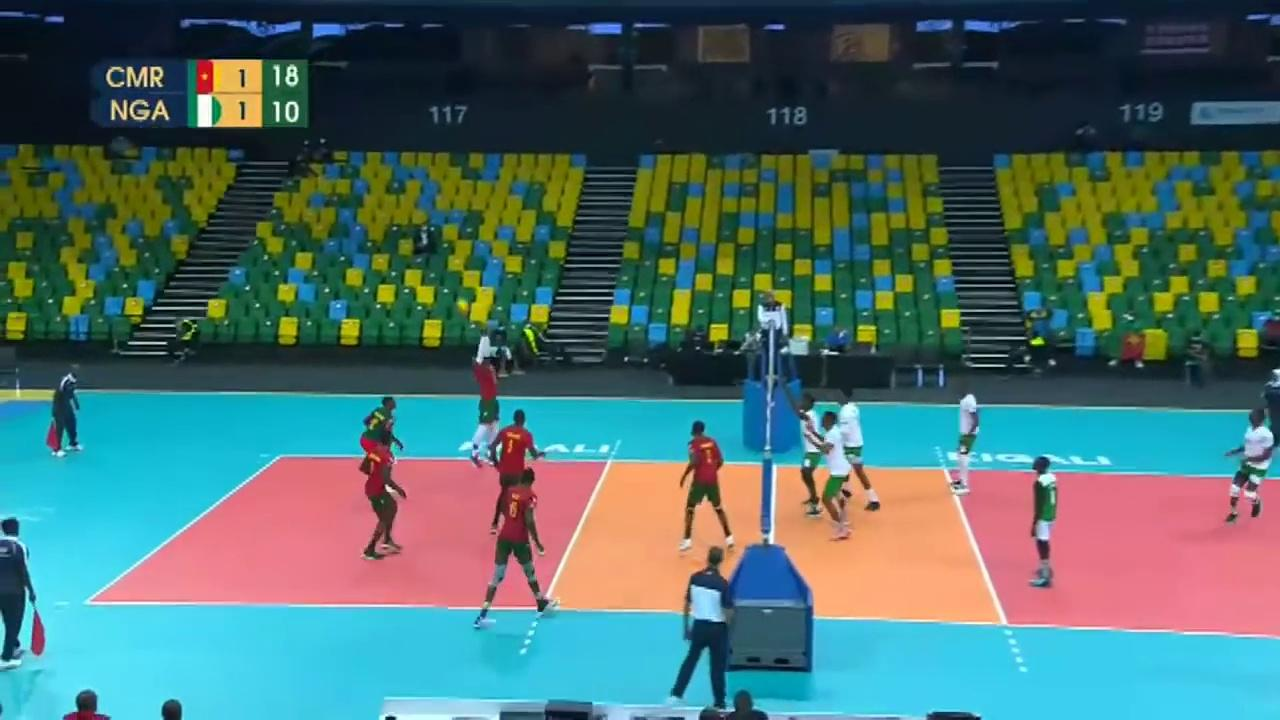player: (471, 467, 562, 629), (680, 422, 736, 549), (490, 405, 541, 543), (809, 409, 860, 546), (358, 434, 409, 566), (462, 326, 509, 467), (830, 383, 874, 518), (1224, 409, 1275, 523), (940, 385, 981, 496), (800, 396, 837, 518), (1028, 456, 1059, 584), (359, 396, 402, 480)
refree: (661, 543, 738, 715), (0, 514, 44, 682), (747, 284, 794, 378), (46, 366, 80, 460), (1257, 370, 1280, 446)
